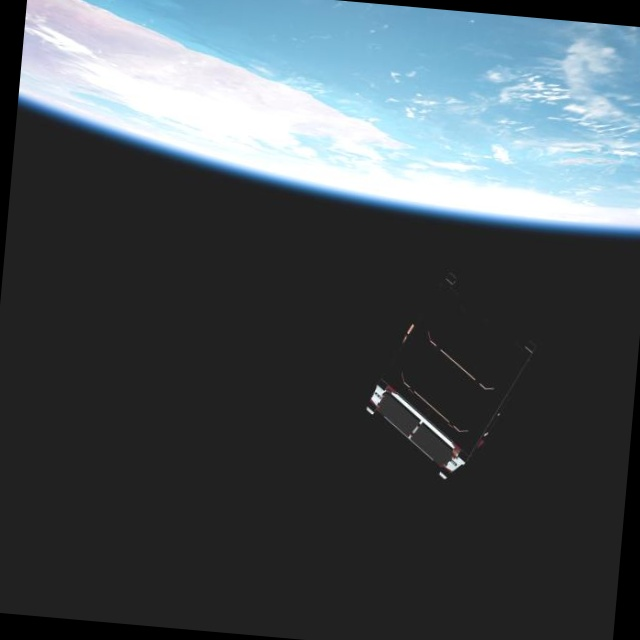medium_debris: (360, 260, 545, 498)
